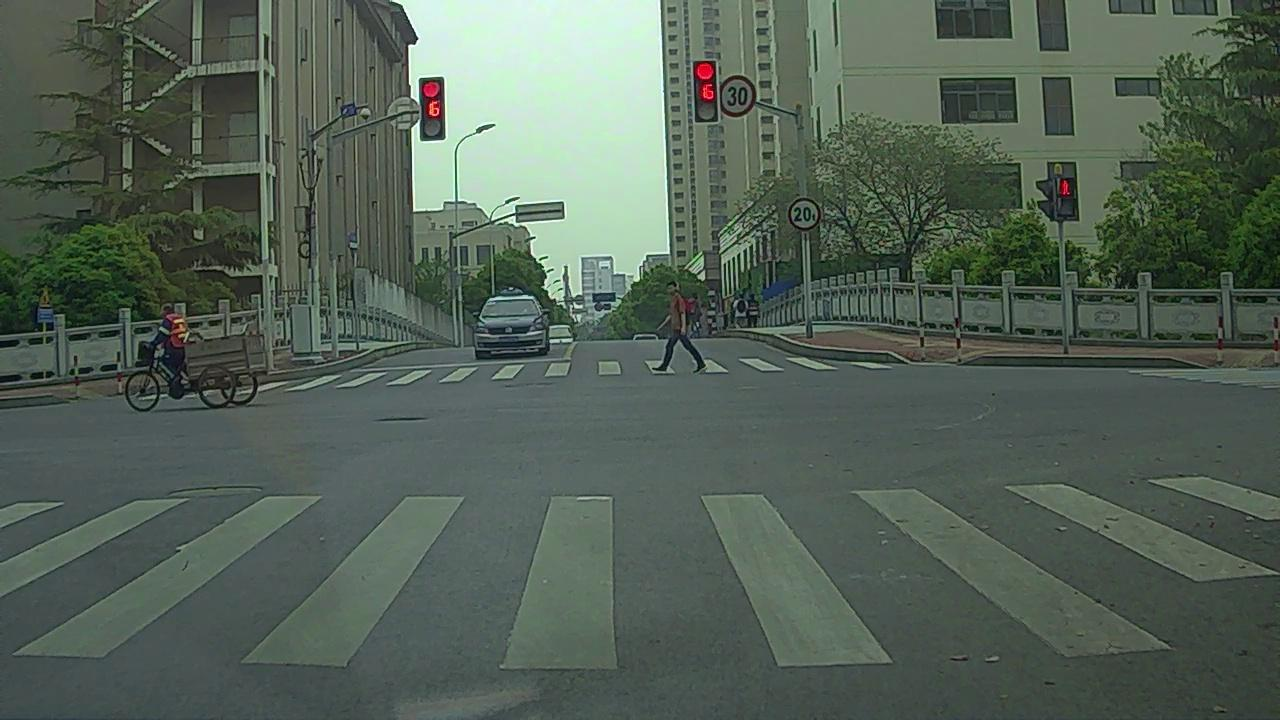traffic_light: (420, 77, 447, 140), (694, 62, 719, 122)
